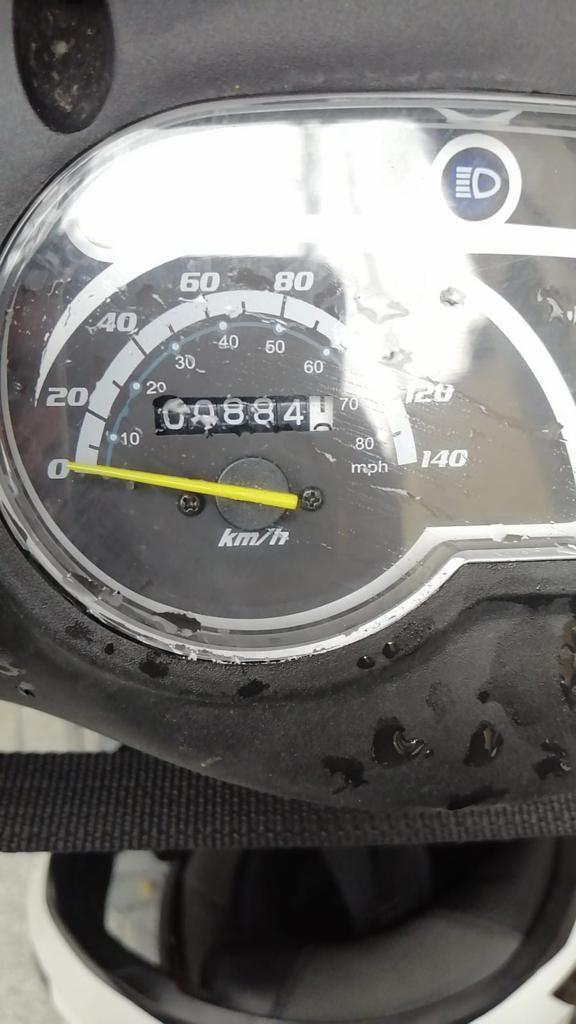0: (161, 398, 185, 433), (192, 398, 216, 431)
1: (315, 392, 329, 419)
4: (281, 399, 305, 429)
8: (221, 396, 246, 428), (251, 396, 274, 426)
odometer: (149, 393, 338, 436)
